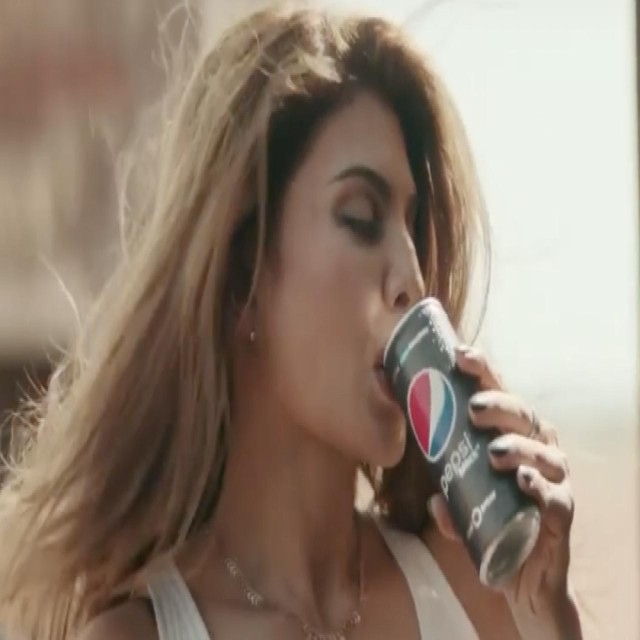pepsi: (401, 368, 458, 462)
